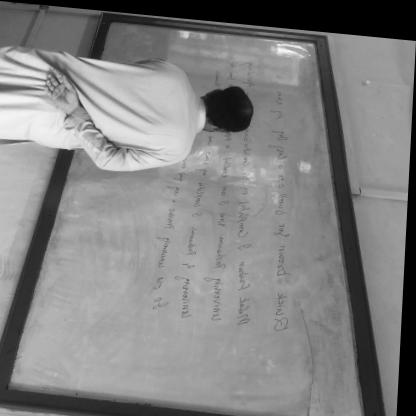Handwritten text: (261, 57, 299, 328), (172, 126, 219, 317), (146, 159, 191, 314), (233, 121, 259, 323), (212, 135, 236, 324), (239, 50, 260, 85)
Lecturer: (34, 34, 259, 185)
Whiteboard: (4, 9, 405, 416)
